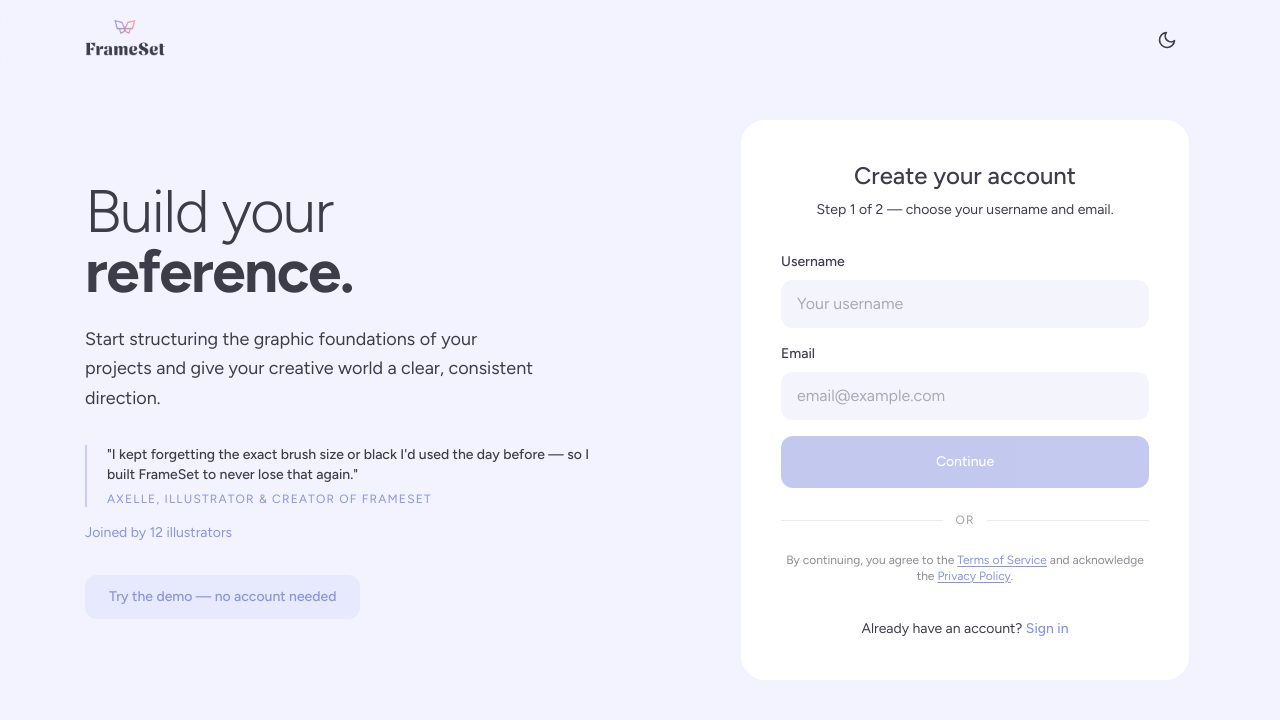
Test case: Register › gates the Continue button until the identity step is valid
Expected: the button "Continue" is disabled, [781,436,1149,488]
Type "AxelleDev" into the field labelled "Username" at (965,304), box [781,280,1149,328]
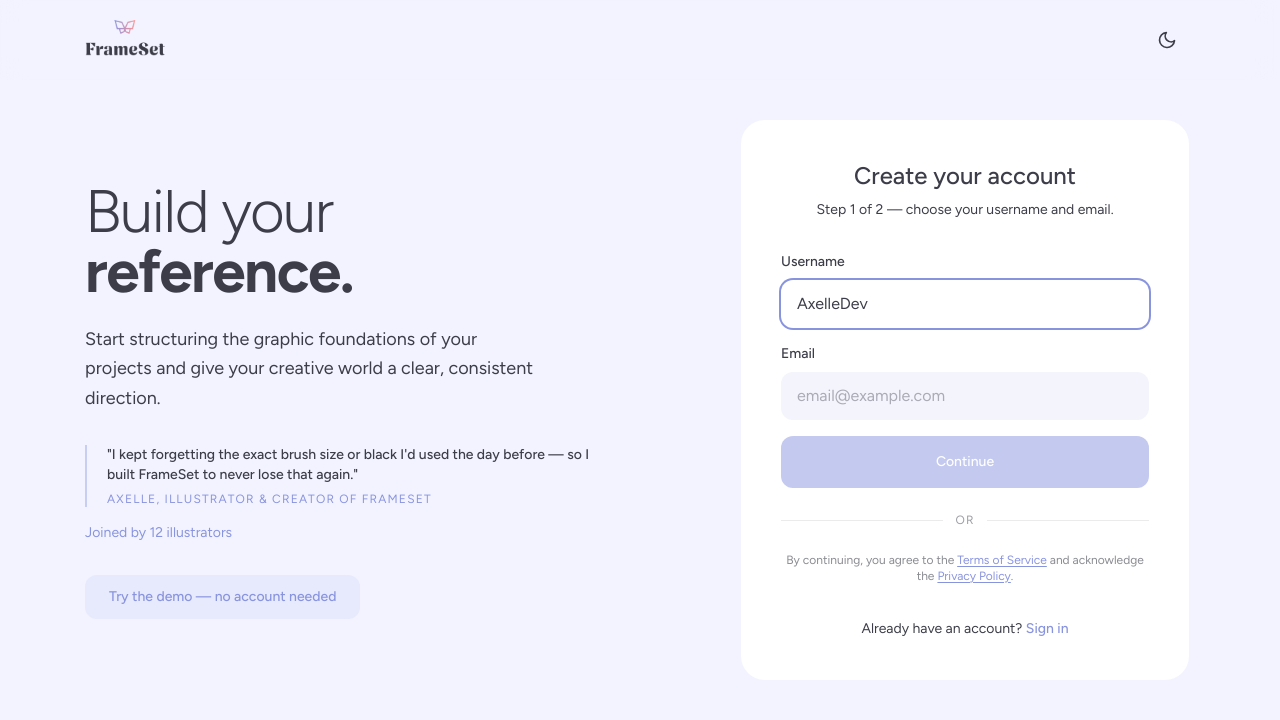
Type "not-an-email" into the field with placeholder "email@example.com" at (965,396), box [781,372,1149,420]
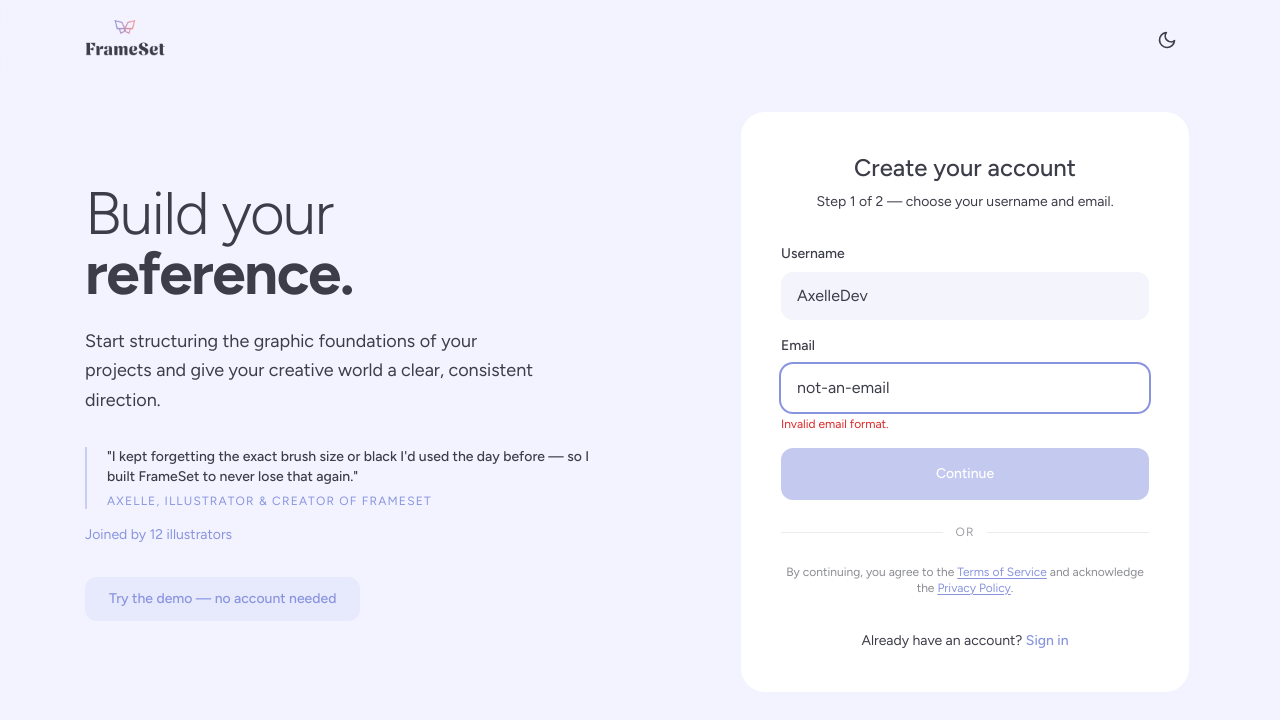
Expected: the button "Continue" is disabled, [781,448,1149,500]
Expected: the text "Invalid email format." is shown, [781,417,888,431]
Clear the field with placeholder "email@example.com" at (965,388), box [781,364,1149,412]
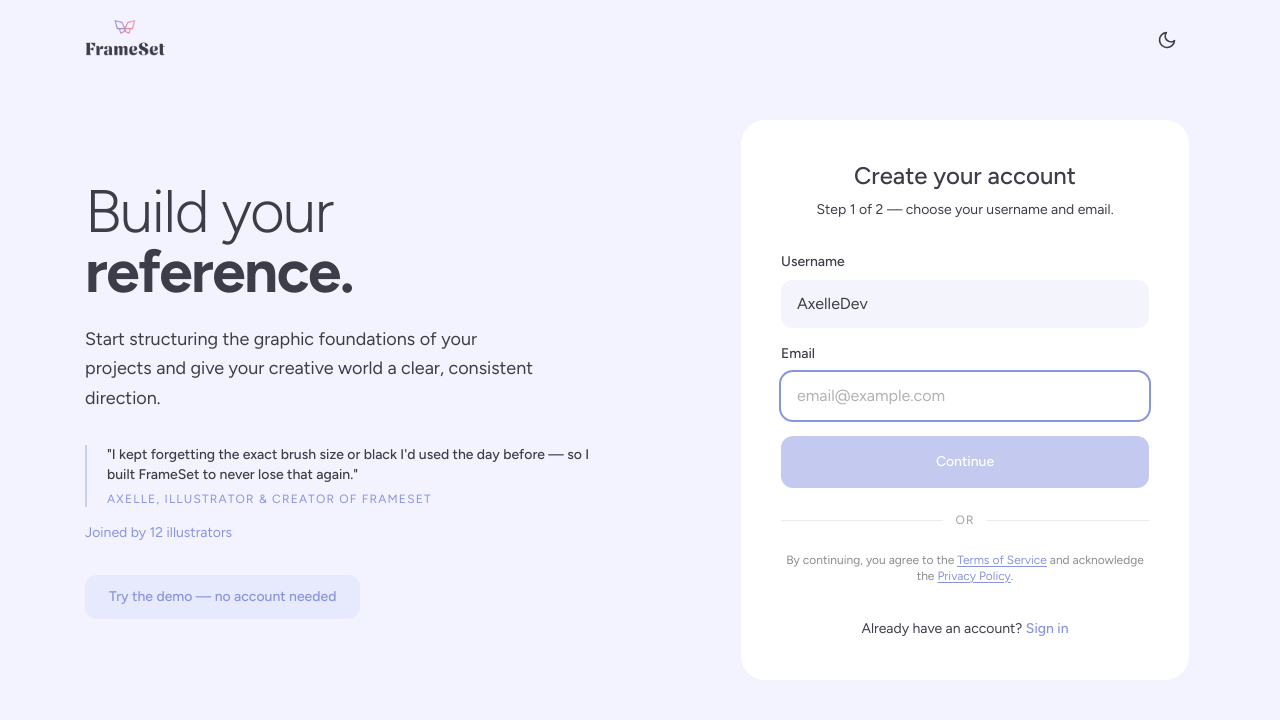
Type "axelle@example.com" into the field with placeholder "email@example.com" at (965,396), box [781,372,1149,420]
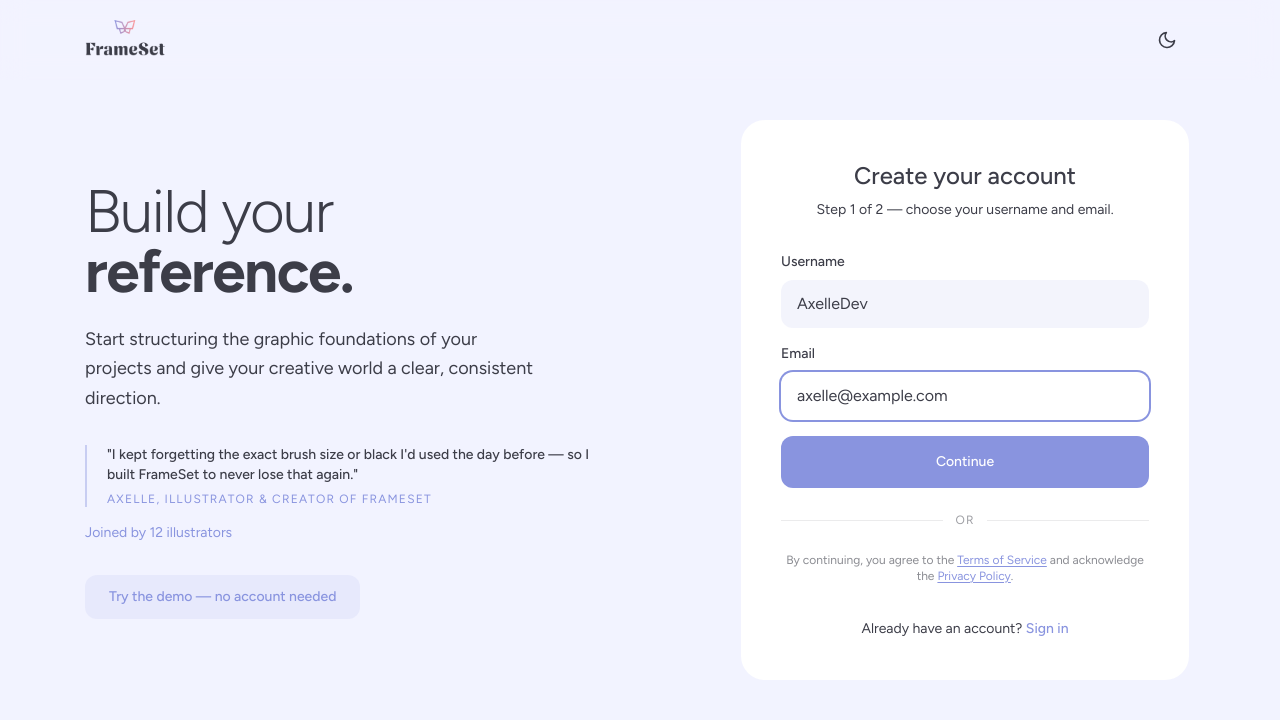
Expected: the button "Continue" is enabled, [781,436,1149,488]
